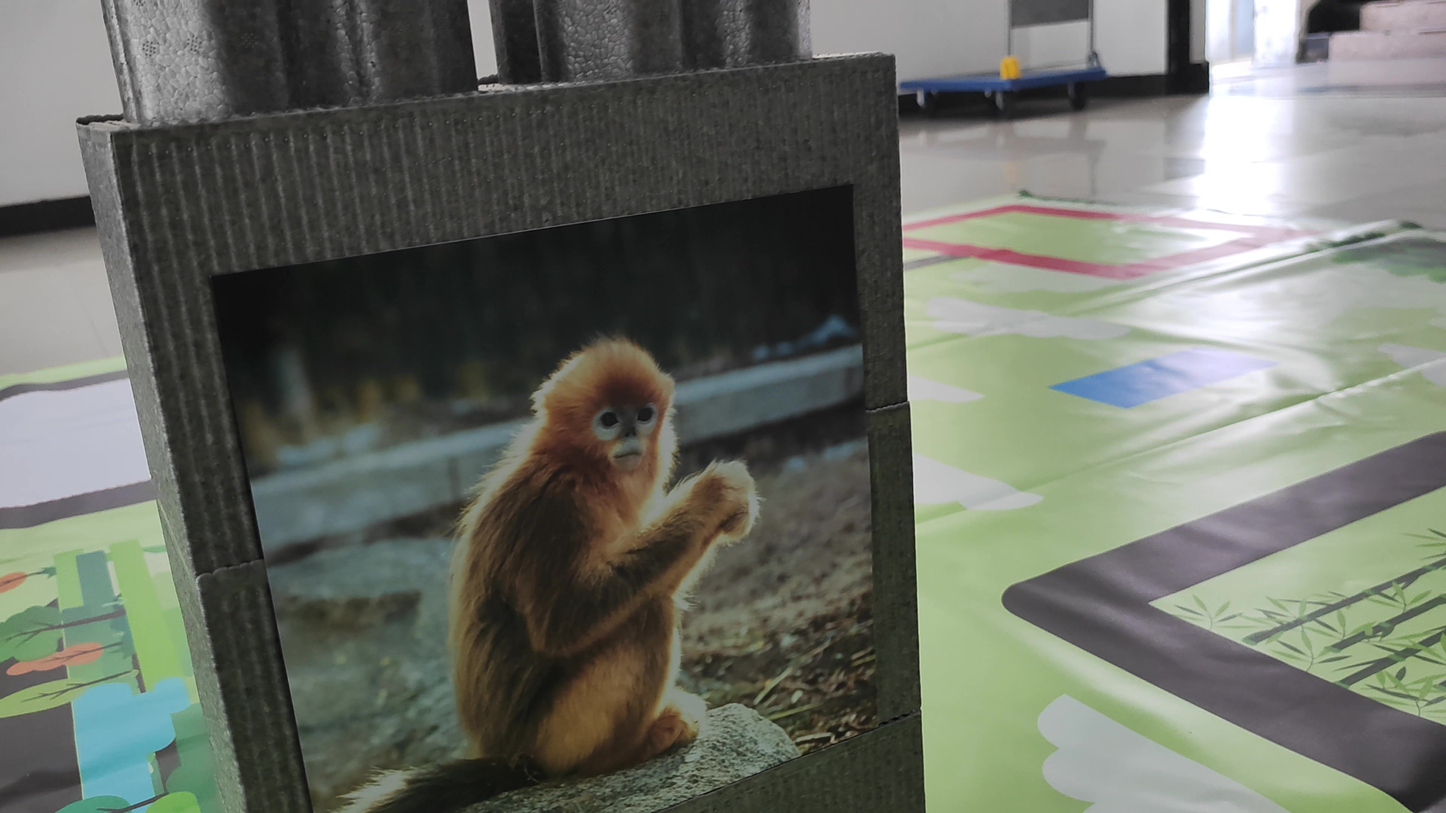monkey: (303, 298, 787, 783)
